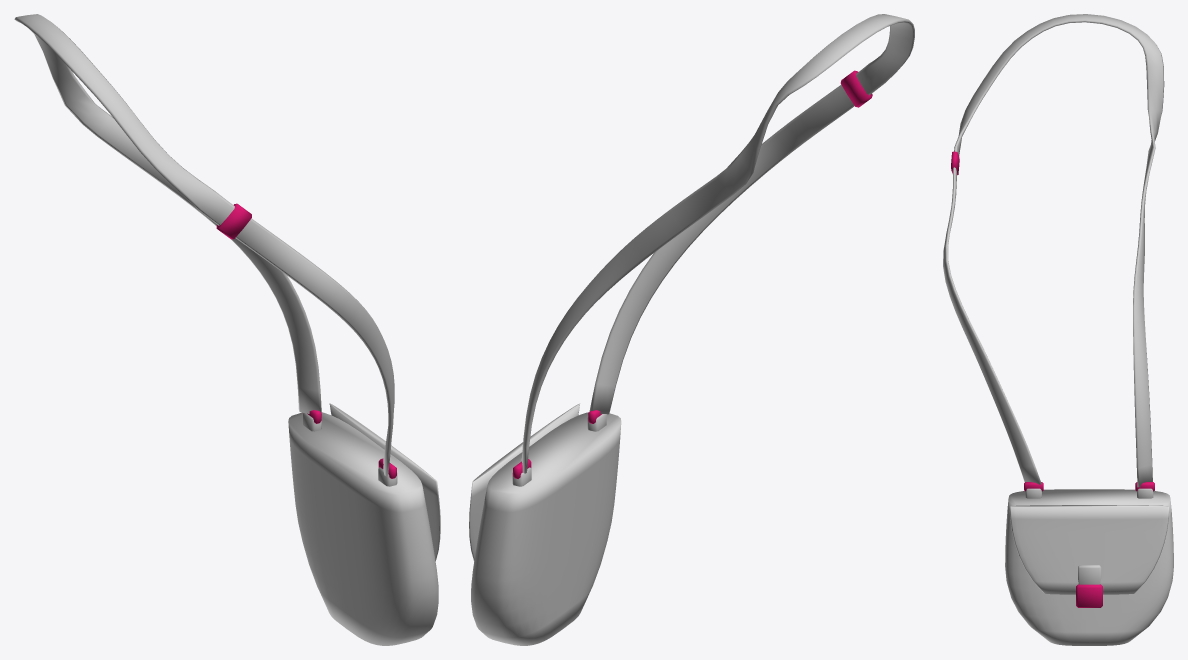
Rendered from accessory_bag.glb.
3 renders of one model, left to right at view 1: azimuth 30°, elevation 25°; view 2: azimuth 150°, elevation 25°; view 3: azimuth 270°, elevation 25°, orthographic. The views are drawn at different scales.
Parts seen in each view (by area): view 1: garment_accessory_bag; view 2: garment_accessory_bag; view 3: garment_accessory_bag.
Part boxes in pixels (x1,y1,x2,y2): garment_accessory_bag: [14, 14, 440, 645]; garment_accessory_bag: [469, 14, 914, 645]; garment_accessory_bag: [943, 14, 1173, 645].
Bounding box in the file's own units: 0.3552 × 0.6132 × 0.2571.
